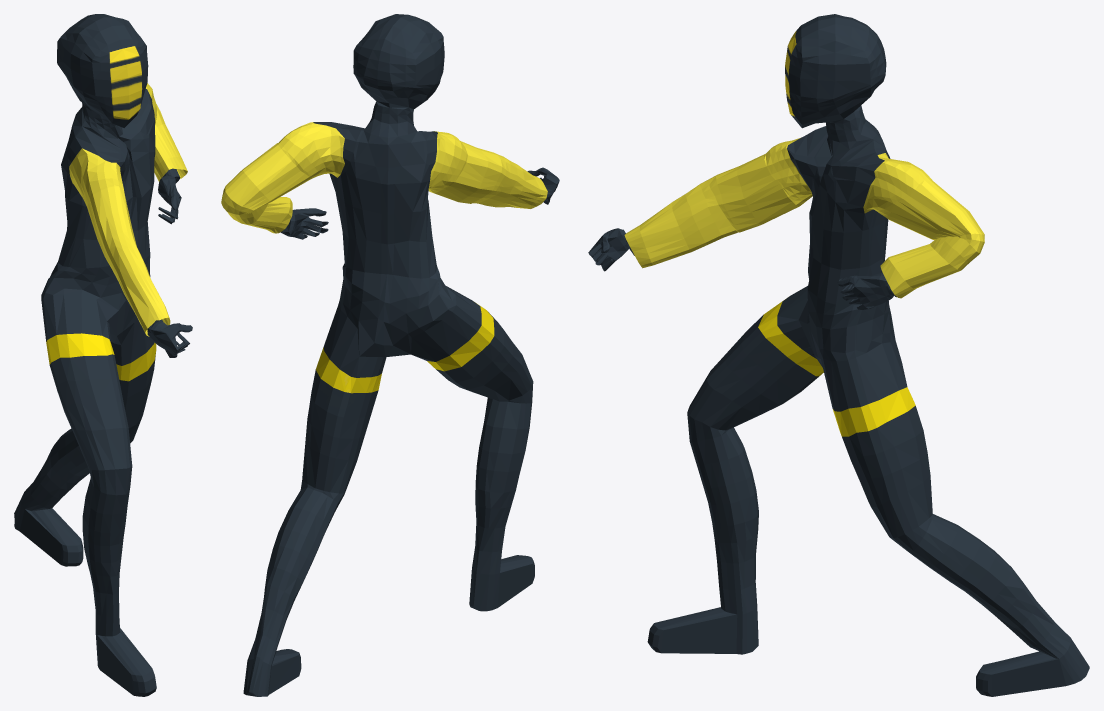
Rendered from Sentry_WF_000000.obj.
3 views of the same model, side by side, from view 1: azimuth 30°, elevation 25°; view 2: azimuth 150°, elevation 25°; view 3: azimuth 270°, elevation 25° (orthographic). The views are drawn at different scales.
Parts seen in each view (by area): view 1: Cube; view 2: Cube; view 3: Cube.
Boxes of the visible parts, bbox=[...] form: Cube: bbox=[14, 14, 192, 696]; Cube: bbox=[221, 14, 559, 696]; Cube: bbox=[588, 14, 1089, 696].
Size of the model in its own units: 1.18 by 3.61 by 2.51.
